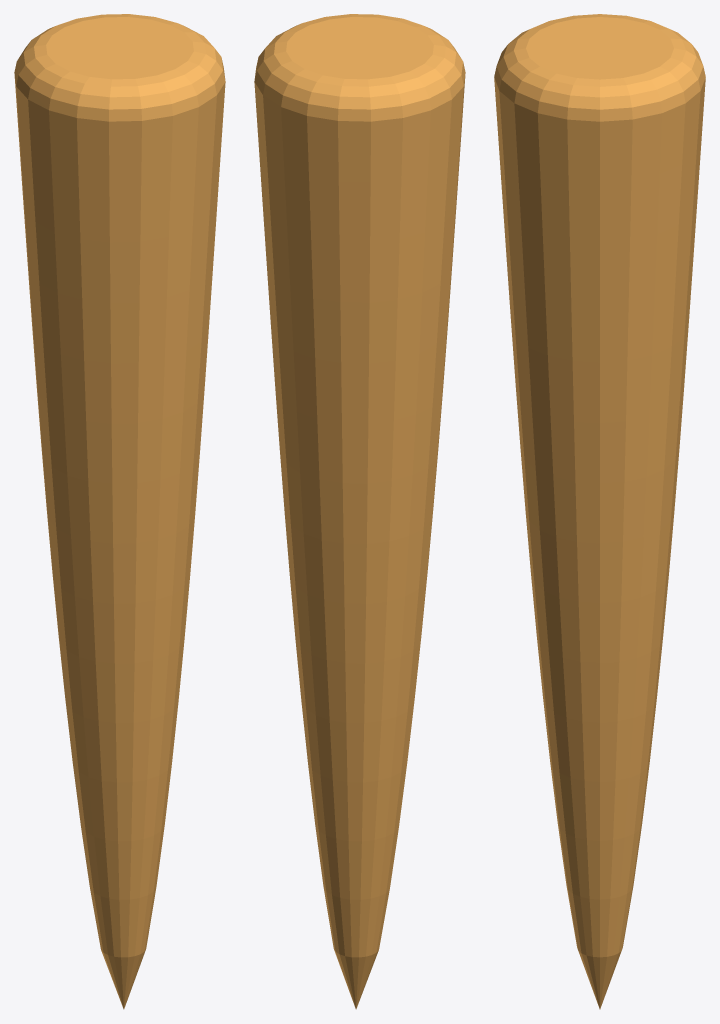
Rendered from carrot_v23.glb.
3 views of the same model, side by side, from view 1: azimuth 30°, elevation 25°; view 2: azimuth 150°, elevation 25°; view 3: azimuth 270°, elevation 25° (orthographic).
Parts seen in each view (by area): view 1: root; view 2: root; view 3: root.
Part boxes in pixels (x1=…): root: x1=14, y1=14, x2=225, y2=1009; root: x1=254, y1=14, x2=465, y2=1009; root: x1=494, y1=14, x2=705, y2=1009.
Bounding box in the file's own units: 0.0392 × 0.1962 × 0.0392.
